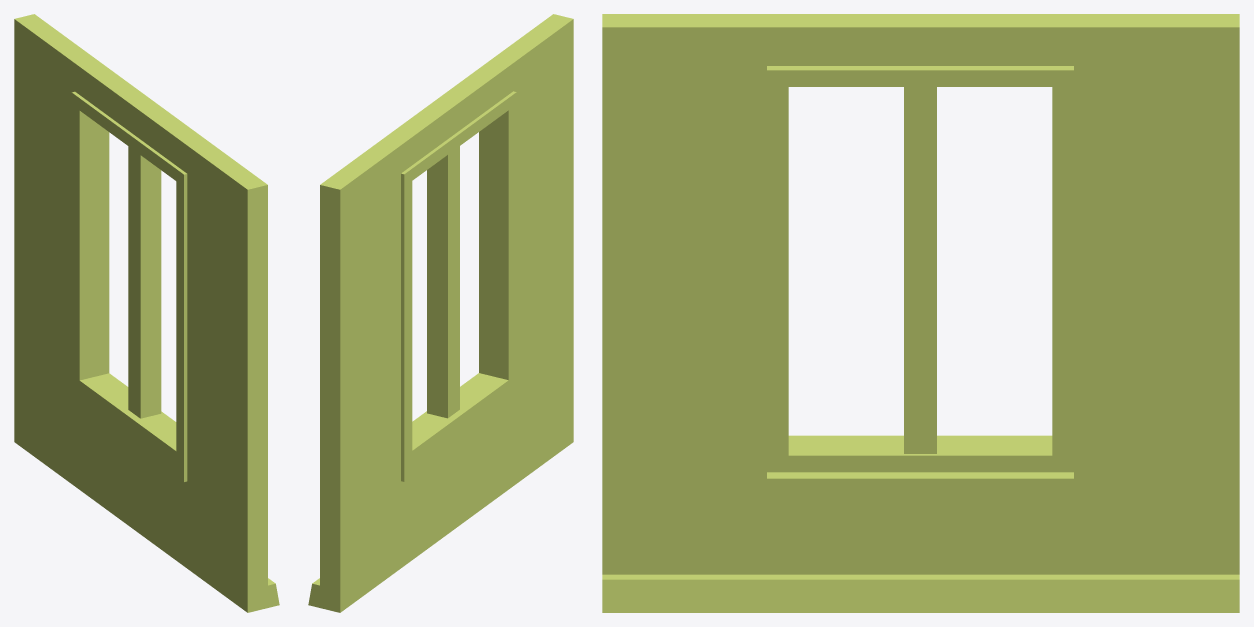
The model's file is SM_Proper_Windowed_Wall.fbx.
The picture shows the model from 3 angles, left to right: view 1: azimuth 30°, elevation 25°; view 2: azimuth 150°, elevation 25°; view 3: azimuth 270°, elevation 25°; orthographic projection. The views are drawn at different scales.
Visible parts, largest first — view 1: Cube.005; view 2: Cube.005; view 3: Cube.005.
Boxes of the visible parts, x1=… form: Cube.005: x1=14, y1=14, x2=279, y2=612; Cube.005: x1=308, y1=14, x2=573, y2=612; Cube.005: x1=602, y1=14, x2=1239, y2=612.
Size of the model in its own units: 38.55 by 400 by 400.
